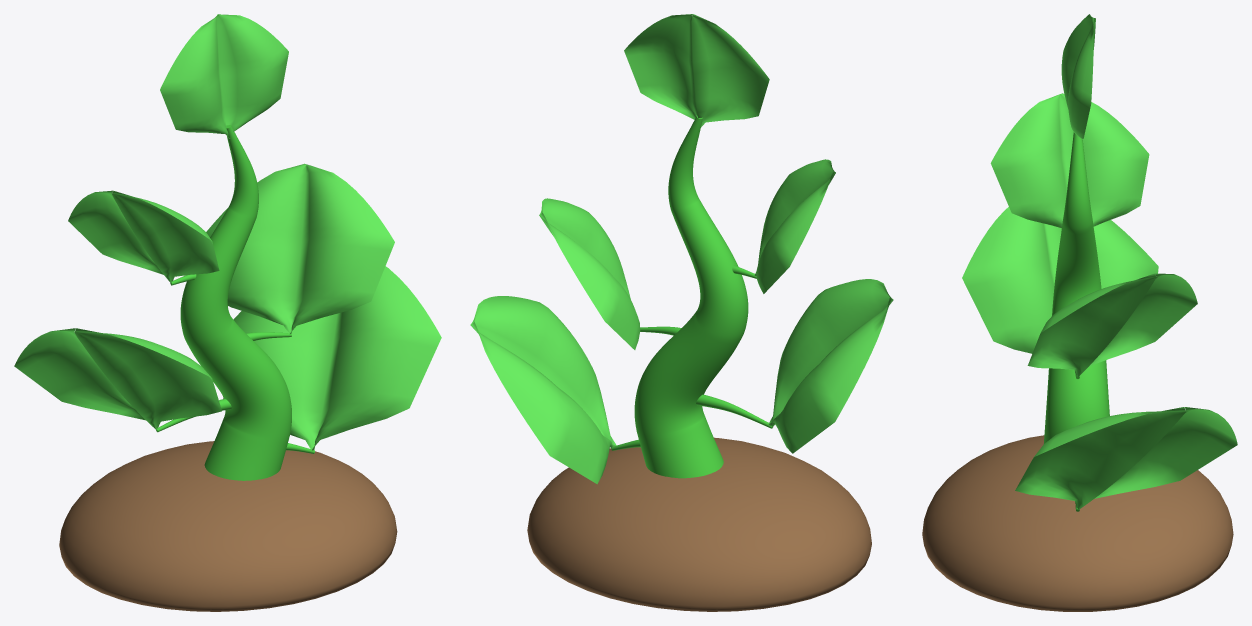
Rendered from plant_sprout.glb.
The picture shows the model from 3 angles, left to right: view 1: azimuth 30°, elevation 25°; view 2: azimuth 150°, elevation 25°; view 3: azimuth 270°, elevation 25°; orthographic projection. The views are drawn at different scales.
Parts seen in each view (by area): view 1: Soil, Leaf_3, Leaf_1, Stem, Leaf_2, Leaf_Top, Leaf_4; view 2: Soil, Stem, Leaf_1, Leaf_2, Leaf_Top, Leaf_3, Leaf_4, Petiole_2; view 3: Soil, Leaf_1, Leaf_4, Leaf_2, Leaf_3, Stem, Leaf_Top.
Boxes of the visible parts, bbox=[...] form: Soil: bbox=[59, 441, 397, 611]; Leaf_3: bbox=[206, 163, 394, 334]; Leaf_1: bbox=[223, 266, 441, 450]; Stem: bbox=[180, 125, 291, 480]; Leaf_2: bbox=[14, 328, 221, 430]; Leaf_Top: bbox=[160, 14, 288, 138]; Leaf_4: bbox=[68, 190, 219, 282]; Soil: bbox=[527, 437, 871, 611]; Stem: bbox=[634, 115, 748, 478]; Leaf_1: bbox=[470, 296, 616, 484]; Leaf_2: bbox=[768, 279, 893, 453]; Leaf_Top: bbox=[624, 14, 769, 127]; Leaf_3: bbox=[539, 198, 640, 349]; Leaf_4: bbox=[754, 159, 835, 293]; Petiole_2: bbox=[696, 394, 773, 428]; Soil: bbox=[922, 435, 1233, 611]; Leaf_1: bbox=[1015, 407, 1237, 509]; Leaf_4: bbox=[990, 93, 1149, 228]; Leaf_2: bbox=[962, 207, 1158, 353]; Leaf_3: bbox=[1027, 273, 1197, 376]; Stem: bbox=[1044, 132, 1109, 443]; Leaf_Top: bbox=[1061, 14, 1095, 138].
Size of the model in its own units: 1.31 by 1.79 by 0.963.
